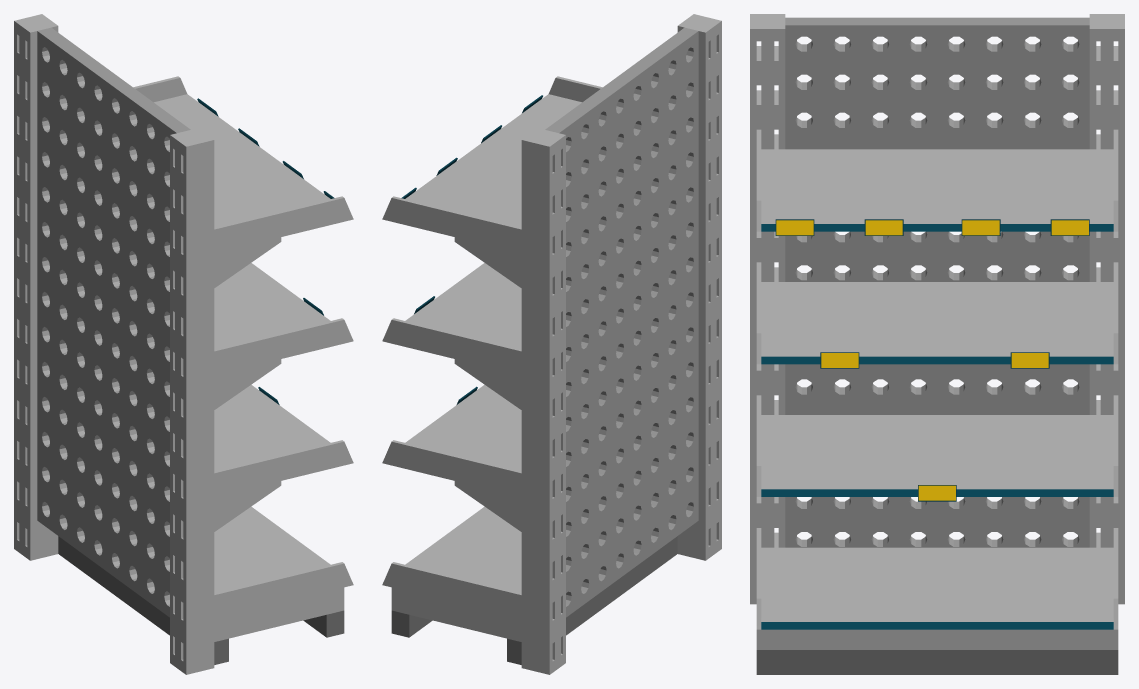
Rendered from Shelf_01a.glb.
3 renders of one model, left to right at view 1: azimuth 30°, elevation 25°; view 2: azimuth 150°, elevation 25°; view 3: azimuth 270°, elevation 25°, orthographic. The views are drawn at different scales.
Visible parts, largest first — view 1: Mesh_Shelf_01a; view 2: Mesh_Shelf_01a; view 3: Mesh_Shelf_01a.
Boxes of the visible parts, box(x1,y1,x2,y2) form: Mesh_Shelf_01a: box(14, 14, 353, 674); Mesh_Shelf_01a: box(382, 14, 721, 674); Mesh_Shelf_01a: box(750, 14, 1124, 674).
Bounding box in the file's own units: 0.6178 × 1.8 × 1.06.
Materials: 1 (1 with a texture image).
